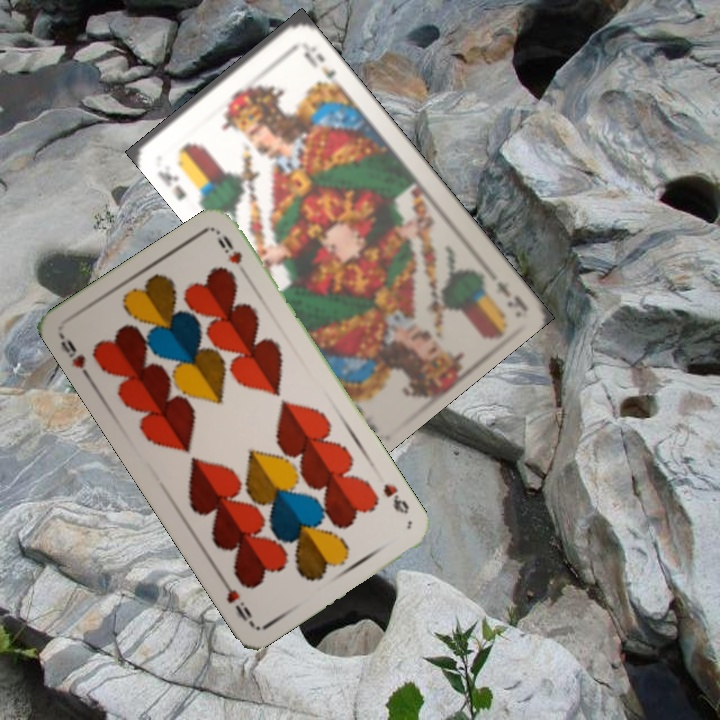EK: (153, 167, 189, 203), (492, 277, 528, 311)
H9: (56, 331, 95, 384), (379, 479, 412, 517)
